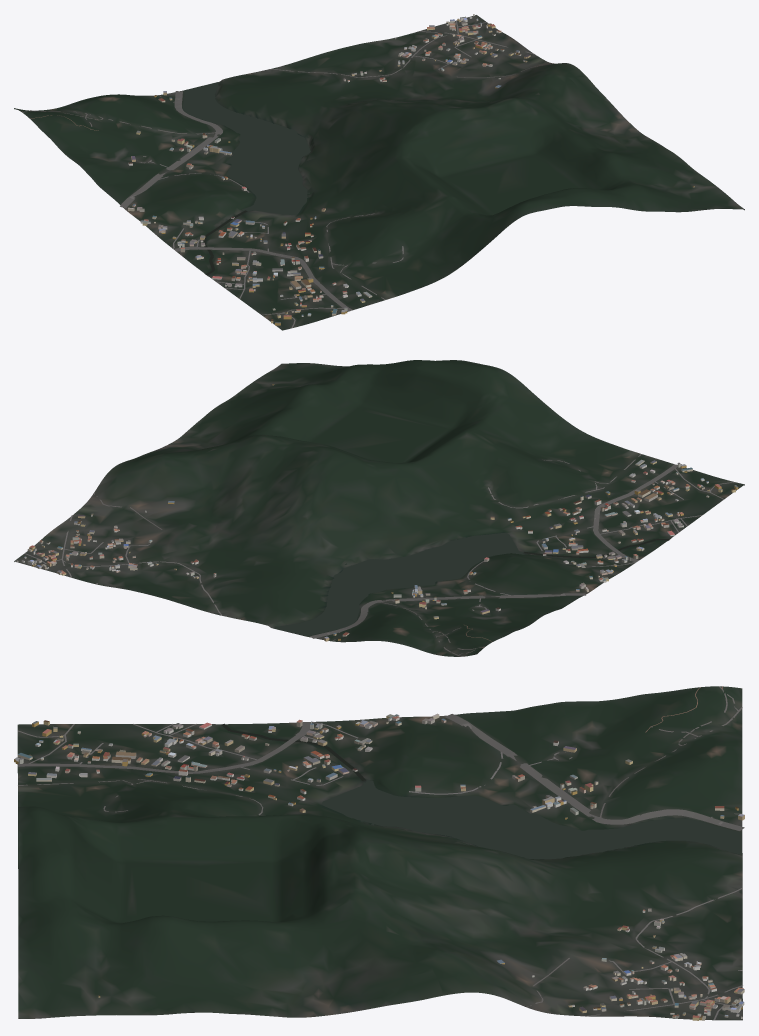
3 renders of one model, top to bottom at view 1: azimuth 30°, elevation 25°; view 2: azimuth 150°, elevation 25°; view 3: azimuth 270°, elevation 25°, orthographic. The views are drawn at different scales.
Parts seen in each view (by area): view 1: ground, water, buildings, roads; view 2: ground, water, buildings, roads; view 3: ground, water, buildings, roads.
Boxes of the visible parts, x1=… form: ground: x1=14, y1=15, x2=744, y2=330; water: x1=182, y1=67, x2=310, y2=275; buildings: x1=128, y1=14, x2=694, y2=325; roads: x1=22, y1=20, x2=554, y2=328; ground: x1=14, y1=360, x2=744, y2=656; water: x1=214, y1=533, x2=669, y2=636; buildings: x1=16, y1=384, x2=738, y2=641; roads: x1=24, y1=454, x2=734, y2=656; ground: x1=17, y1=686, x2=742, y2=1020; water: x1=221, y1=723, x2=741, y2=893; buildings: x1=14, y1=713, x2=744, y2=1020; roads: x1=17, y1=686, x2=744, y2=1019.
Bounding box in the file's own units: 1406 × 177 × 1414.
